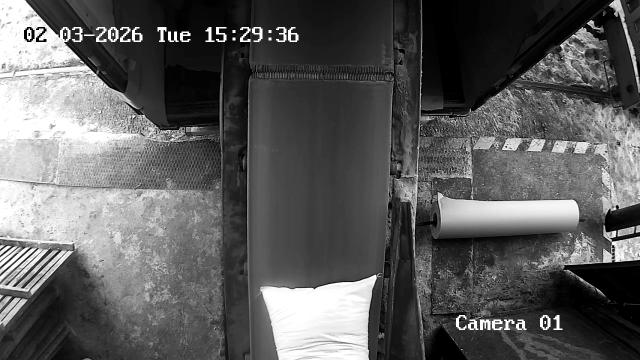bag: (261, 274, 376, 360)
